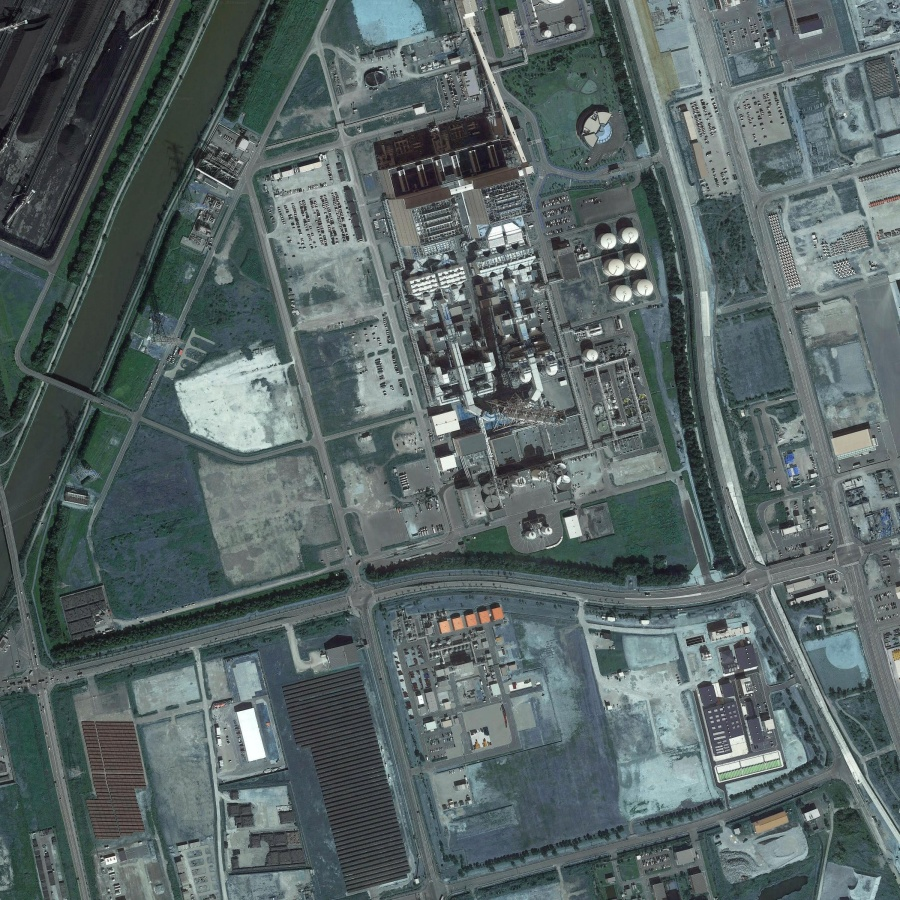PowerPlant: (385, 153, 665, 543)
